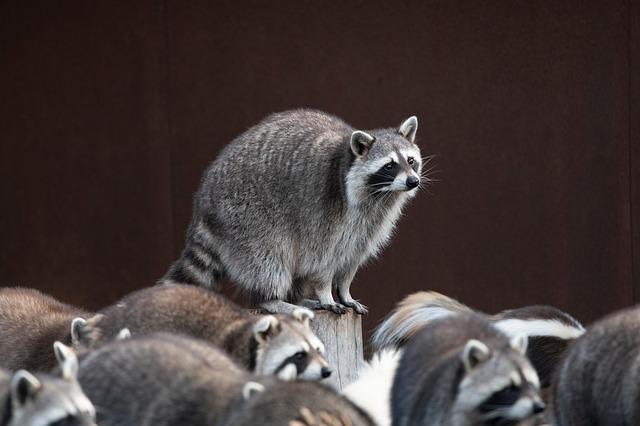Non_Gorille: (14, 20, 626, 426)
